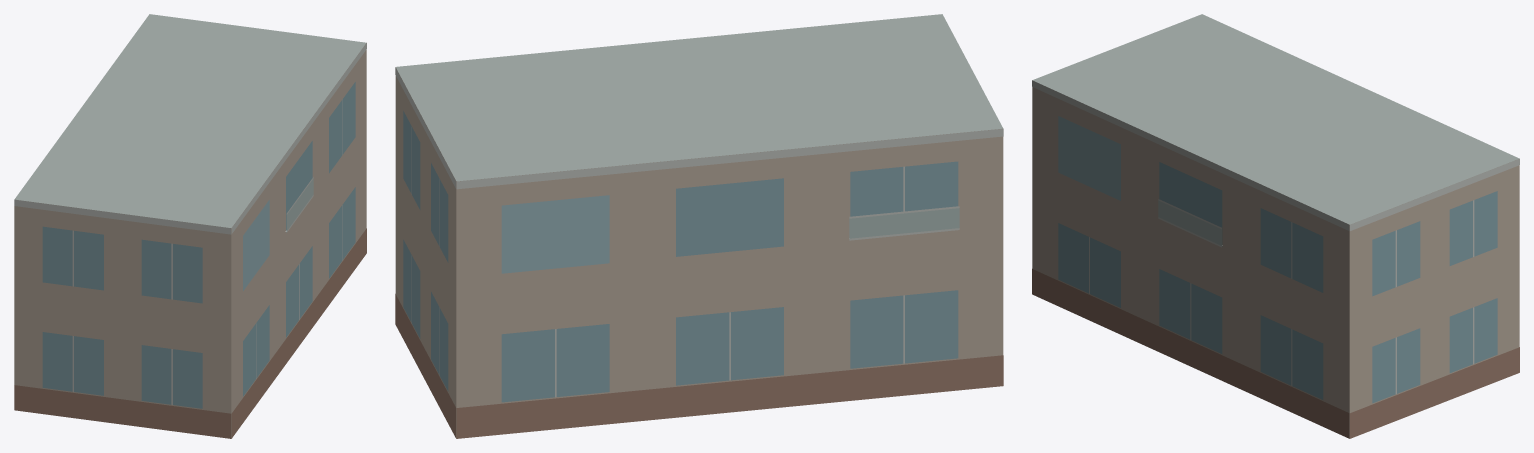
The model's file is survey-upis-32638914.glb.
The picture shows the model from 3 angles, left to right: view 1: azimuth 30°, elevation 25°; view 2: azimuth 150°, elevation 25°; view 3: azimuth 270°, elevation 25°; orthographic projection. The views are drawn at different scales.
Parts seen in each view (by area): view 1: survey-upis-32638914.tmp; view 2: survey-upis-32638914.tmp; view 3: survey-upis-32638914.tmp.
Part boxes in pixels (<box>): survey-upis-32638914.tmp: <box>14,14,366,438</box>; survey-upis-32638914.tmp: <box>395,14,1003,438</box>; survey-upis-32638914.tmp: <box>1032,14,1519,438</box>.
Size of the model in its own units: 16.79 by 7.95 by 16.41.
